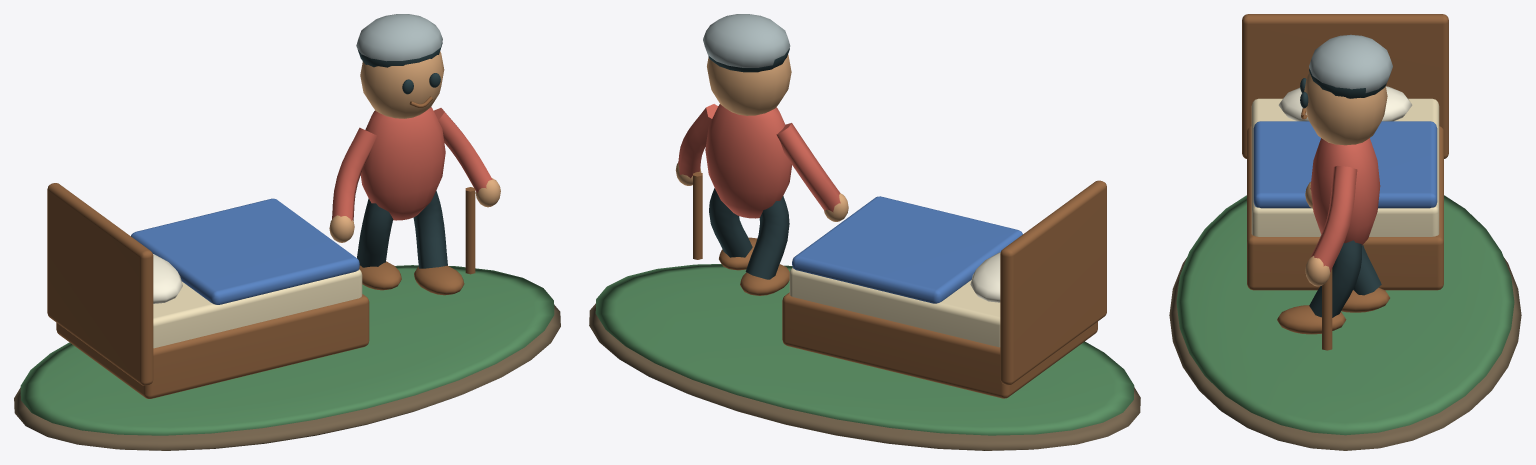
Rendered from slender-elder.glb.
3 views of the same model, side by side, from view 1: azimuth 30°, elevation 25°; view 2: azimuth 150°, elevation 25°; view 3: azimuth 270°, elevation 25° (orthographic). The views are drawn at different scales.
Visible parts, largest first — view 1: slender-elder_surface_01, slender-elder_surface_02, slender-elder_surface_04, slender-elder_surface_08, slender-elder_surface_00, slender-elder_surface_03, slender-elder_surface_06, slender-elder_surface_07, slender-elder_surface_09, slender-elder_surface_05; view 2: slender-elder_surface_01, slender-elder_surface_02, slender-elder_surface_04, slender-elder_surface_08, slender-elder_surface_00, slender-elder_surface_03, slender-elder_surface_07, slender-elder_surface_06, slender-elder_surface_09, slender-elder_surface_05; view 3: slender-elder_surface_01, slender-elder_surface_02, slender-elder_surface_04, slender-elder_surface_00, slender-elder_surface_08, slender-elder_surface_03, slender-elder_surface_06, slender-elder_surface_09, slender-elder_surface_07, slender-elder_surface_05.
Boxes of the visible parts, left/top/right/bottom form: slender-elder_surface_01: left=20, top=265, right=554, bottom=435; slender-elder_surface_02: left=47, top=96, right=475, bottom=398; slender-elder_surface_04: left=131, top=198, right=359, bottom=304; slender-elder_surface_08: left=332, top=107, right=492, bottom=220; slender-elder_surface_00: left=14, top=304, right=560, bottom=450; slender-elder_surface_03: left=153, top=269, right=362, bottom=348; slender-elder_surface_06: left=329, top=51, right=500, bottom=242; slender-elder_surface_07: left=357, top=42, right=447, bottom=268; slender-elder_surface_09: left=356, top=14, right=442, bottom=61; slender-elder_surface_05: left=153, top=254, right=182, bottom=303; slender-elder_surface_01: left=595, top=264, right=1134, bottom=435; slender-elder_surface_02: left=693, top=172, right=1106, bottom=398; slender-elder_surface_04: left=792, top=196, right=1022, bottom=303; slender-elder_surface_08: left=678, top=104, right=840, bottom=218; slender-elder_surface_00: left=589, top=303, right=1140, bottom=450; slender-elder_surface_03: left=789, top=267, right=1000, bottom=347; slender-elder_surface_07: left=708, top=48, right=789, bottom=279; slender-elder_surface_06: left=675, top=54, right=848, bottom=221; slender-elder_surface_09: left=703, top=14, right=790, bottom=67; slender-elder_surface_05: left=970, top=252, right=1000, bottom=302; slender-elder_surface_01: left=1176, top=195, right=1514, bottom=435; slender-elder_surface_02: left=1242, top=14, right=1448, bottom=350; slender-elder_surface_04: left=1253, top=121, right=1437, bottom=208; slender-elder_surface_00: left=1169, top=258, right=1521, bottom=450; slender-elder_surface_08: left=1310, top=138, right=1380, bottom=272; slender-elder_surface_03: left=1251, top=98, right=1439, bottom=236; slender-elder_surface_06: left=1304, top=72, right=1387, bottom=286; slender-elder_surface_09: left=1309, top=34, right=1392, bottom=92; slender-elder_surface_07: left=1300, top=68, right=1386, bottom=317; slender-elder_surface_05: left=1278, top=86, right=1412, bottom=121.
Bounding box in the file's own units: 4.56 × 2.74 × 2.5.
